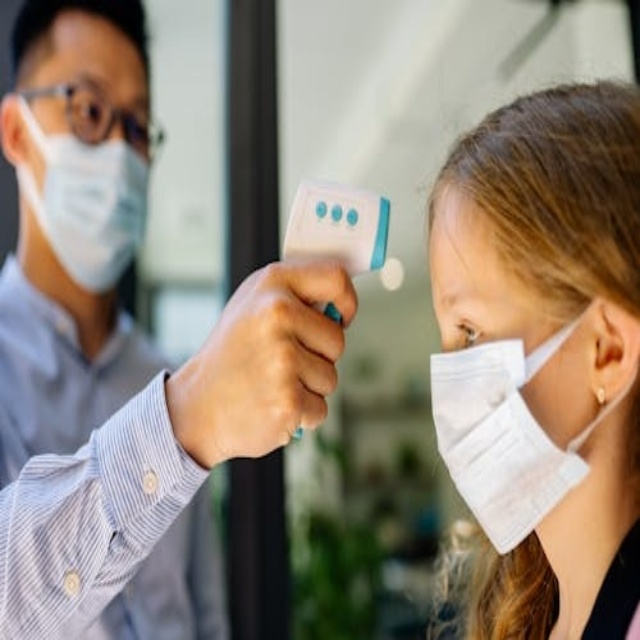Gafas: (17, 83, 167, 156)
Mascara: (429, 303, 640, 556), (13, 95, 152, 289)
Sin_gafas: (415, 284, 503, 369)
Sin_guantes: (176, 256, 360, 468)
